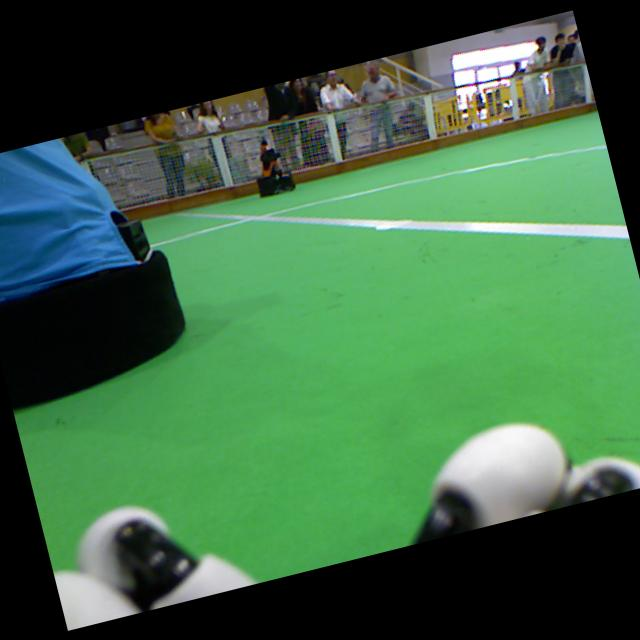robot: (257, 131, 295, 197)
